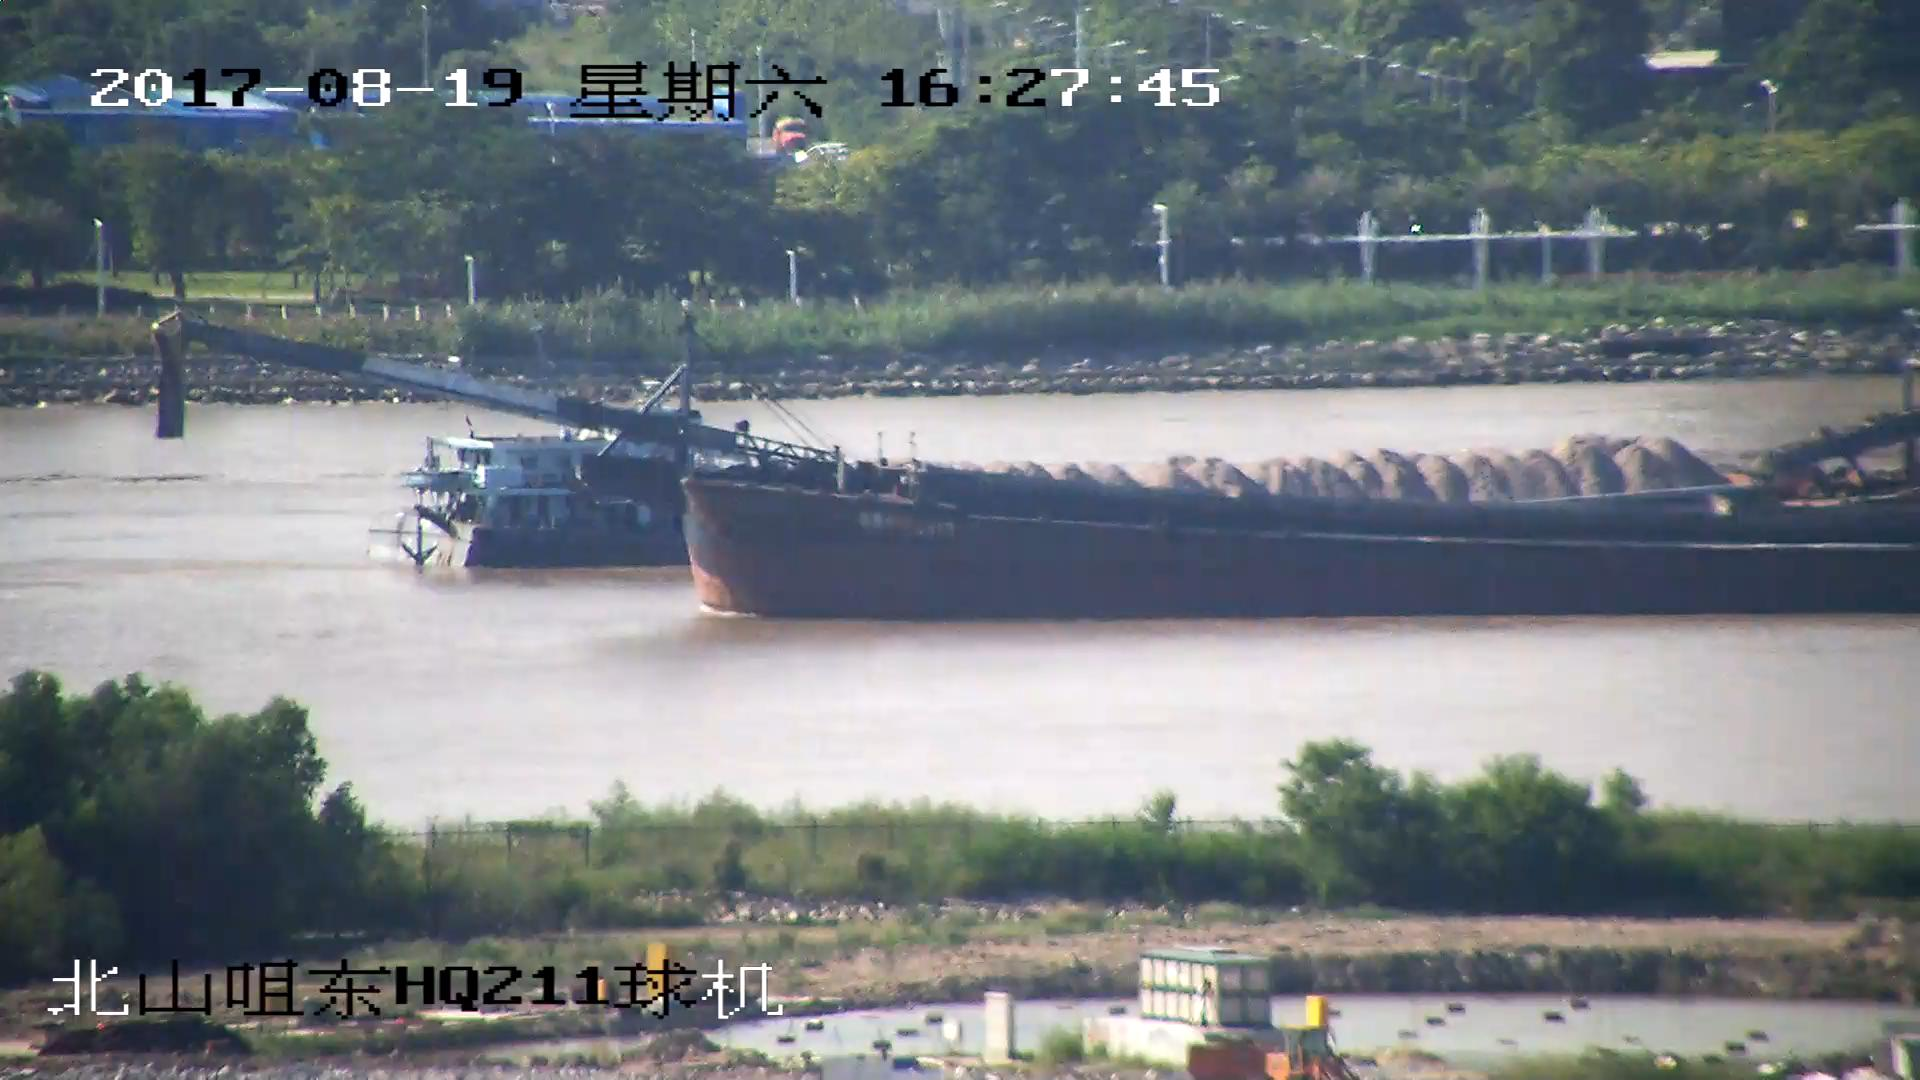bulk cargo carrier: (159, 320, 1920, 616)
ore carrier: (416, 382, 1920, 564)
